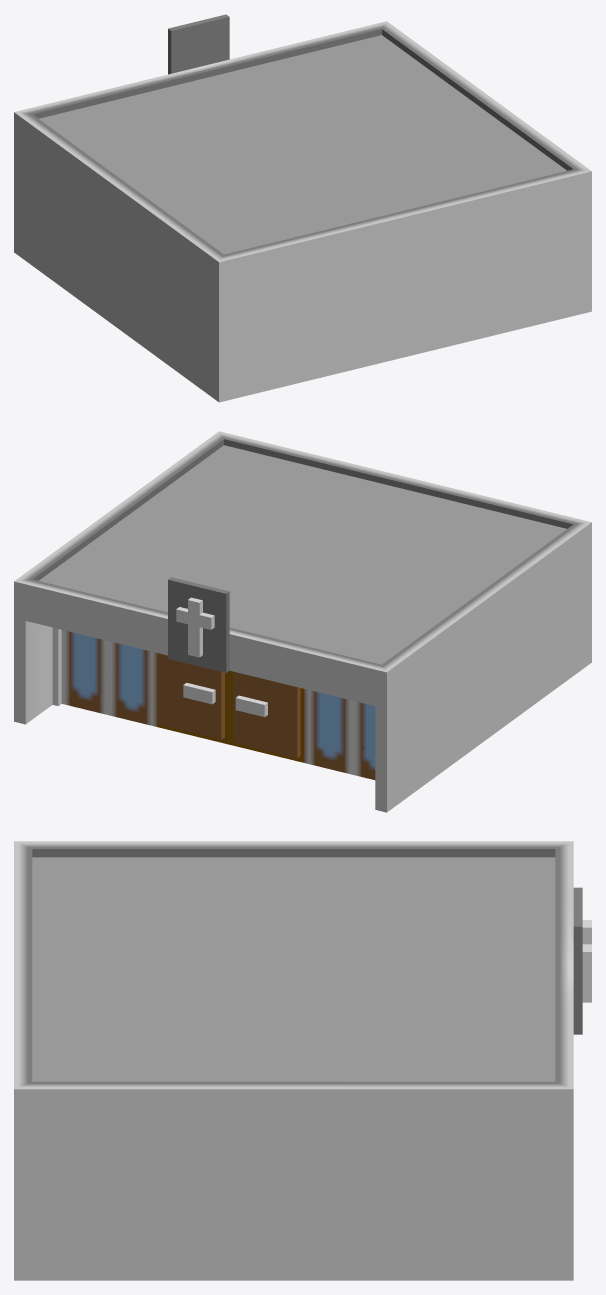
The model's file is obj_store17.fbx.
3 views of the same model, one above another, from view 1: azimuth 30°, elevation 25°; view 2: azimuth 150°, elevation 25°; view 3: azimuth 270°, elevation 25° (orthographic). The views are drawn at different scales.
Visible parts, largest first — view 1: obj_store17; view 2: obj_store17; view 3: obj_store17.
Boxes of the visible parts, box(x1,y1,x2,y2) form: obj_store17: box(14, 14, 591, 402); obj_store17: box(14, 431, 591, 812); obj_store17: box(14, 841, 591, 1280).
Bounding box in the file's own units: 6.4 × 6.3 × 3.
1 material, 1 textured.
